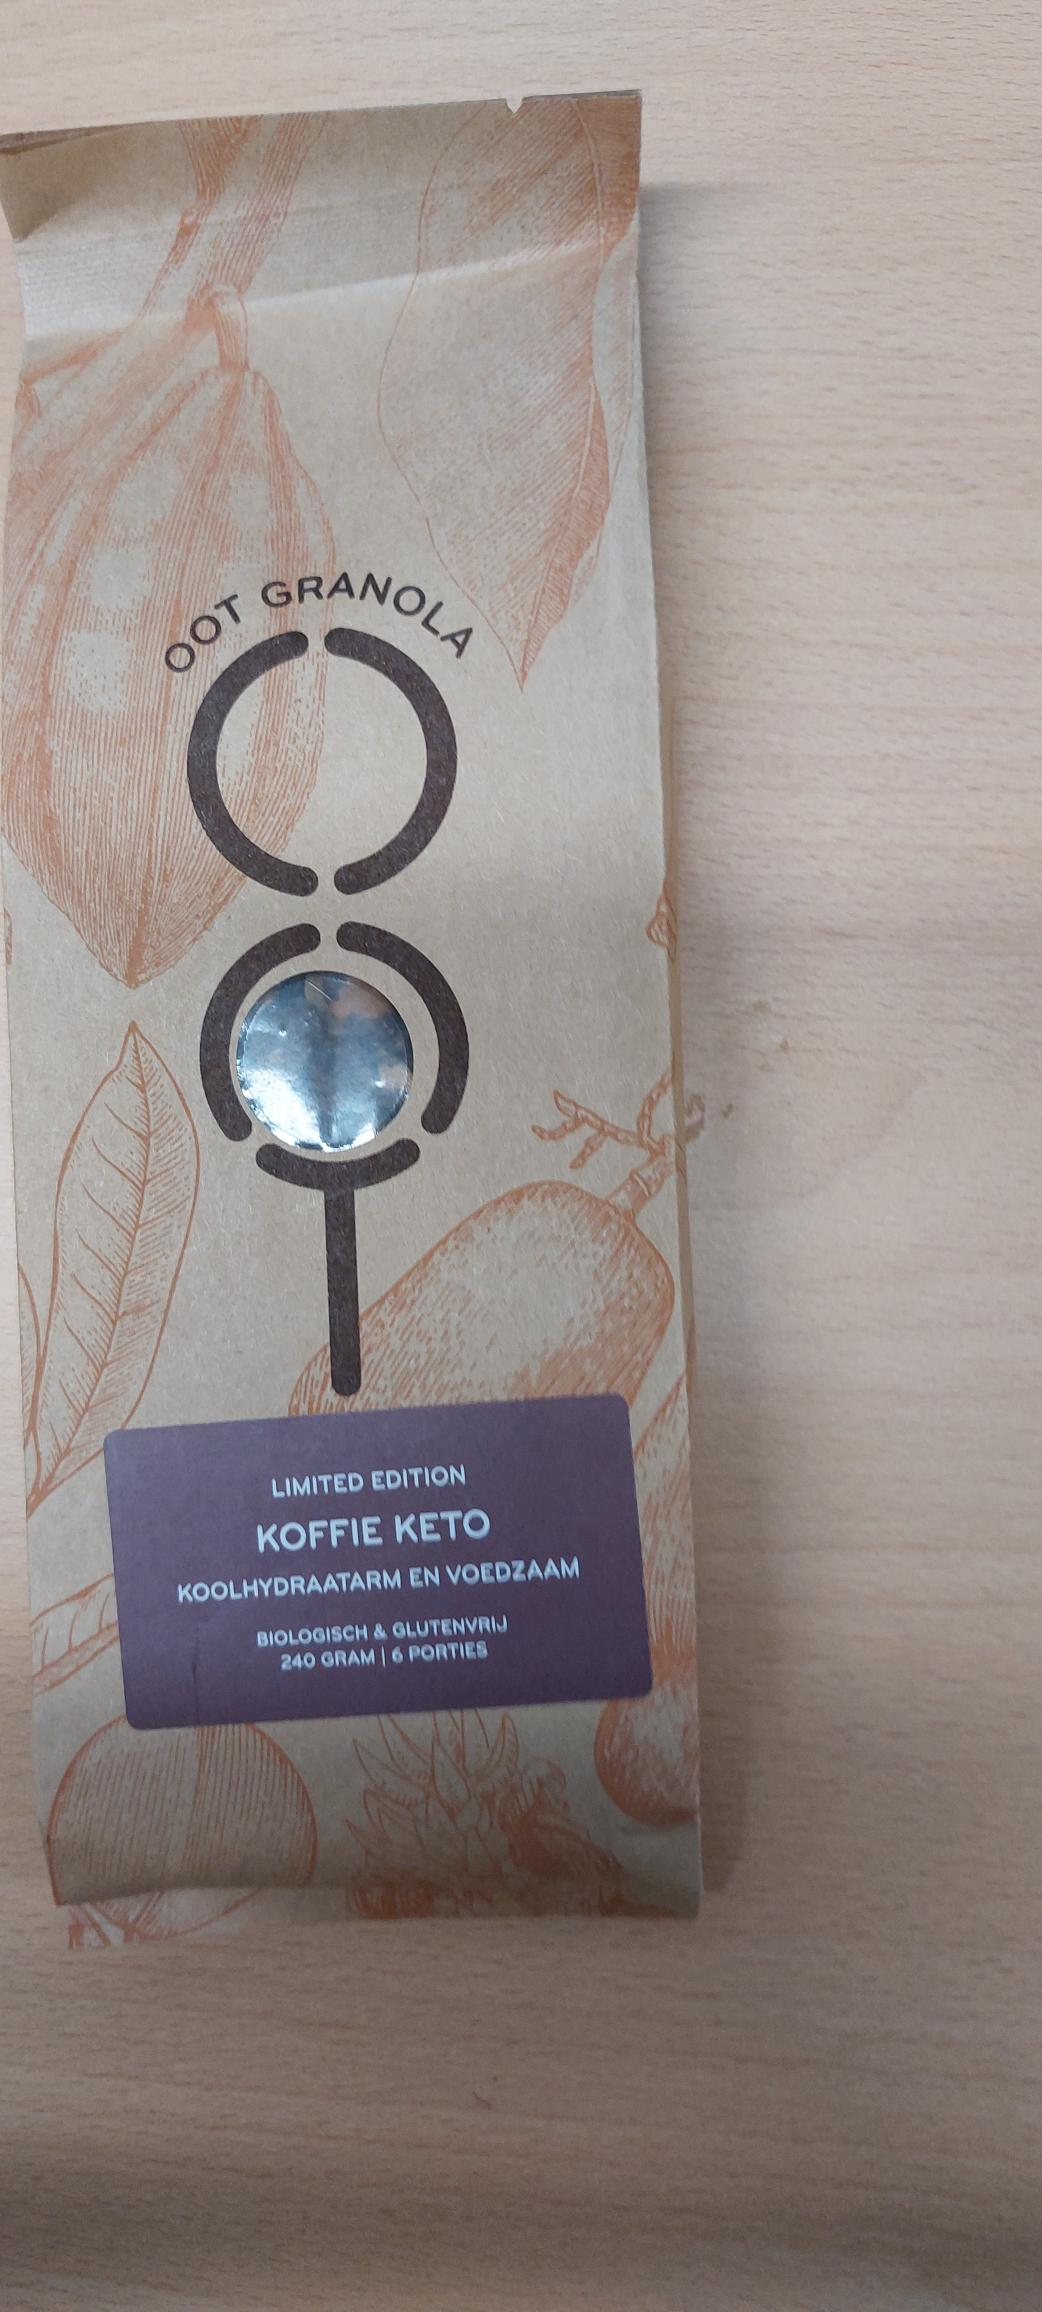KoffieKeto: (85, 1414, 650, 1702)
